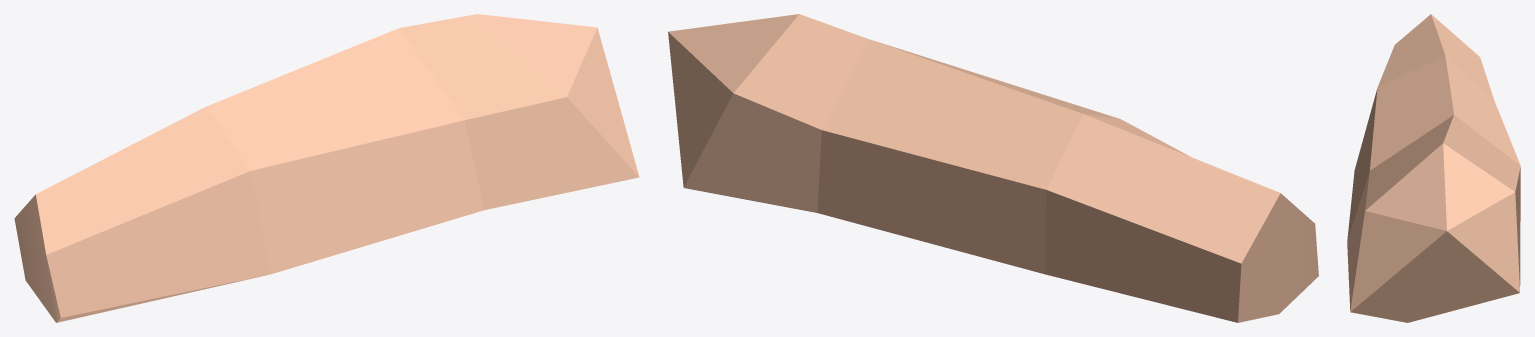
Rendered from Chr_ArmUpperRight_Female_00_Static.fbx.
The picture shows the model from 3 angles, left to right: view 1: azimuth 30°, elevation 25°; view 2: azimuth 150°, elevation 25°; view 3: azimuth 270°, elevation 25°; orthographic projection. The views are drawn at different scales.
Parts seen in each view (by area): view 1: Chr_ArmUpperRight_Female_00_Static; view 2: Chr_ArmUpperRight_Female_00_Static; view 3: Chr_ArmUpperRight_Female_00_Static.
Boxes of the visible parts, box(x1,y1,x2,y2) form: Chr_ArmUpperRight_Female_00_Static: box(14, 14, 639, 322); Chr_ArmUpperRight_Female_00_Static: box(668, 14, 1318, 322); Chr_ArmUpperRight_Female_00_Static: box(1347, 14, 1520, 322).
Bounding box in the file's own units: 0.3512 × 0.1103 × 0.1078.
